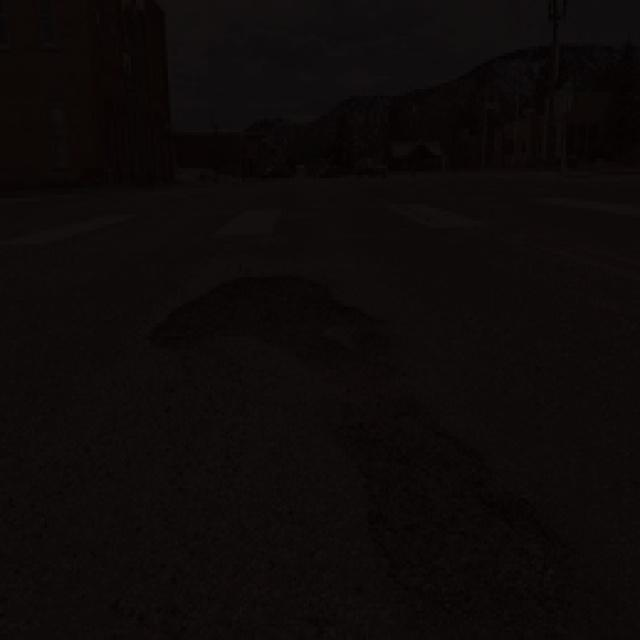Pothole: (156, 256, 570, 606)
